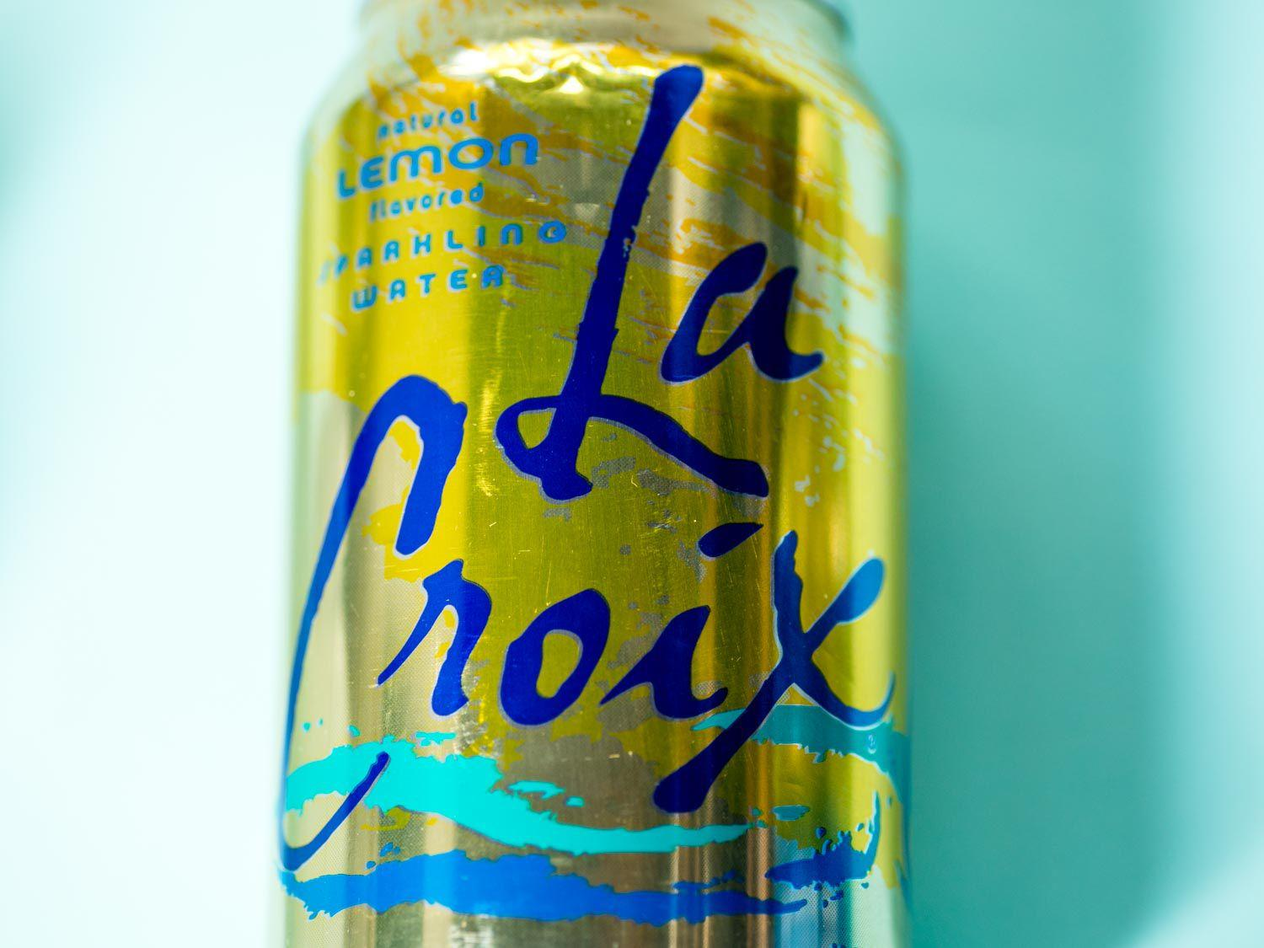metal: (207, 0, 1014, 948)
